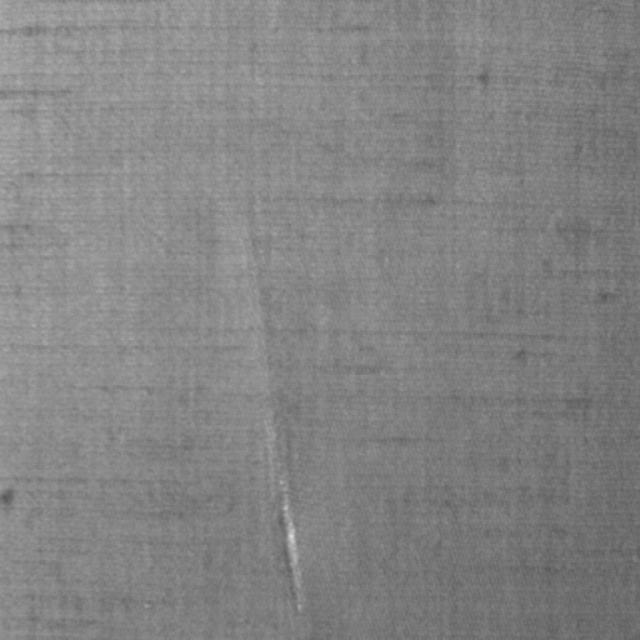thread error: (237, 223, 311, 622)
